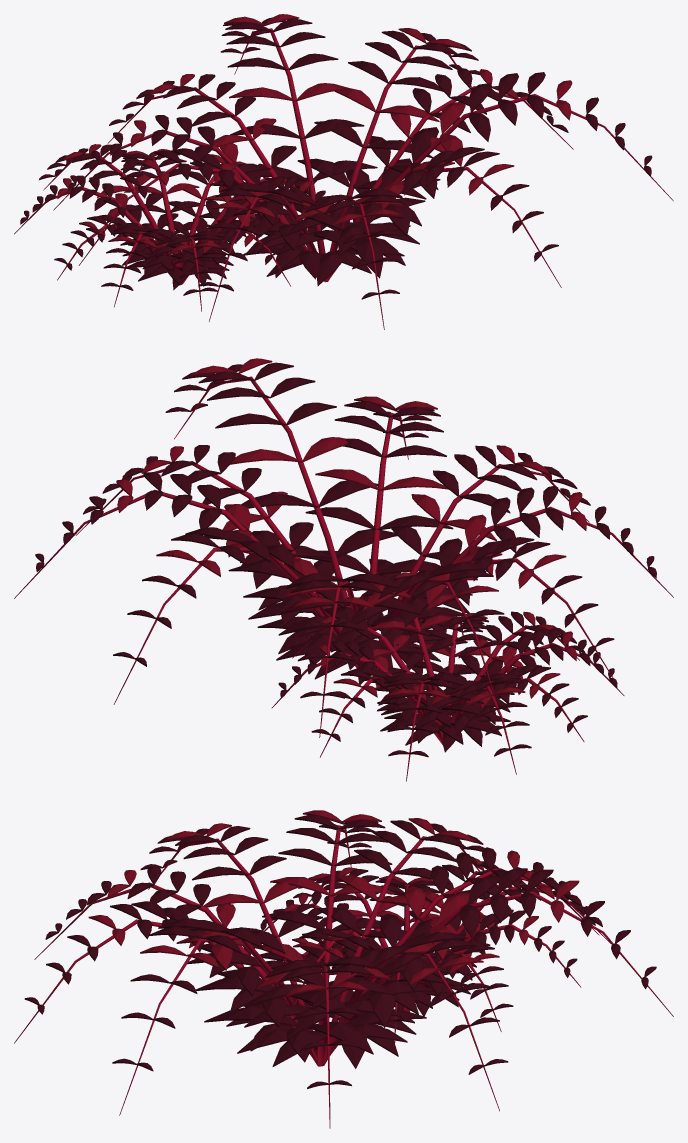
The model's file is SM_RV_Fern.fbx.
3 renders of one model, top to bottom at view 1: azimuth 30°, elevation 25°; view 2: azimuth 150°, elevation 25°; view 3: azimuth 270°, elevation 25°, orthographic. The views are drawn at different scales.
Visible parts, largest first — view 1: SM_RV_Fern; view 2: SM_RV_Fern; view 3: SM_RV_Fern.
Part boxes in pixels (x1,y1,x2,y2): SM_RV_Fern: [14, 14, 673, 329]; SM_RV_Fern: [14, 358, 673, 781]; SM_RV_Fern: [14, 810, 673, 1128].
Bounding box in the file's own units: 192 × 187 × 73.21.
